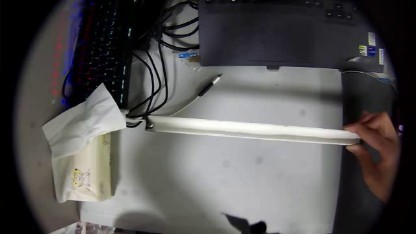gangzhu: (146, 118, 153, 129)
